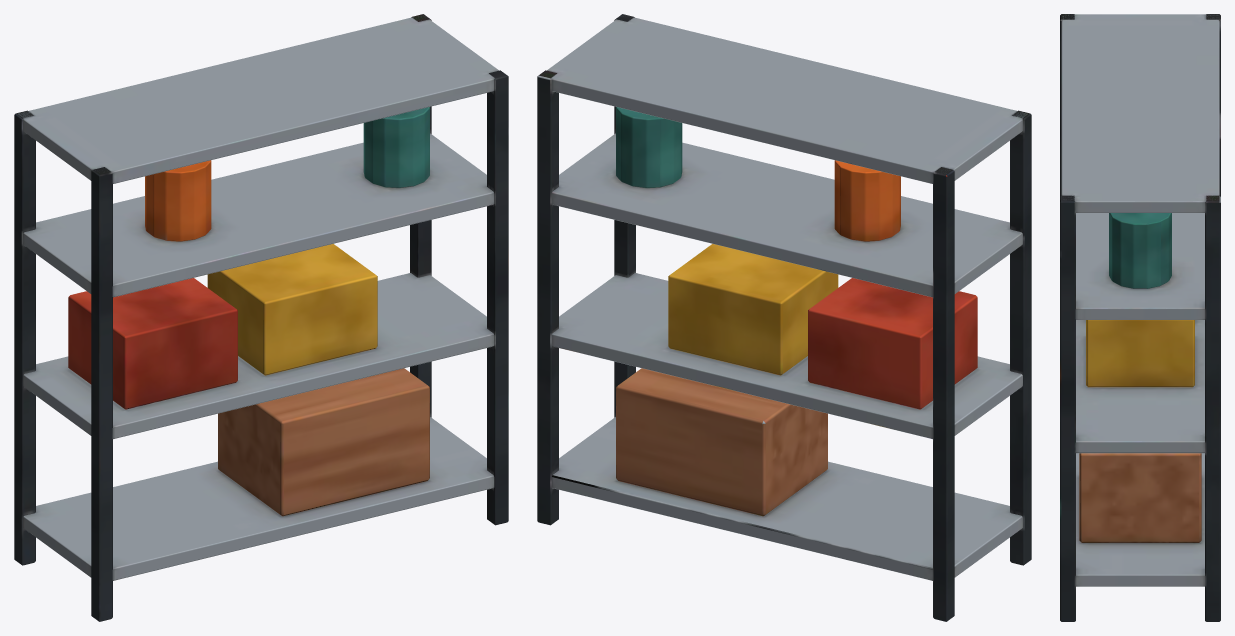
The model's file is tool_rack_wall.glb.
3 renders of one model, left to right at view 1: azimuth 30°, elevation 25°; view 2: azimuth 150°, elevation 25°; view 3: azimuth 270°, elevation 25°, orthographic. The views are drawn at different scales.
Visible parts, largest first — view 1: ToolRackWall; view 2: ToolRackWall; view 3: ToolRackWall.
Part boxes in pixels (left/top/right/bottom): ToolRackWall: left=14, top=14, right=508, bottom=621; ToolRackWall: left=537, top=14, right=1031, bottom=621; ToolRackWall: left=1060, top=14, right=1220, bottom=621.
Bounding box in the file's own units: 1.97 × 2.05 × 0.71.
1 material, 1 textured.
